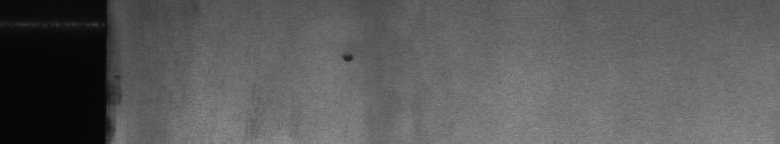fi: (340, 48, 359, 68)
